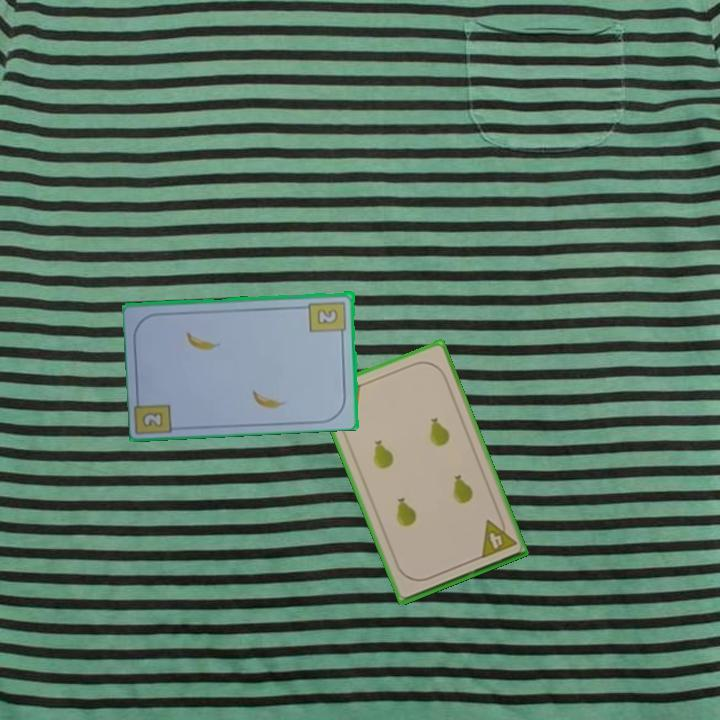2b: (306, 298, 349, 340), (141, 410, 164, 428)
4p: (477, 512, 519, 561)
